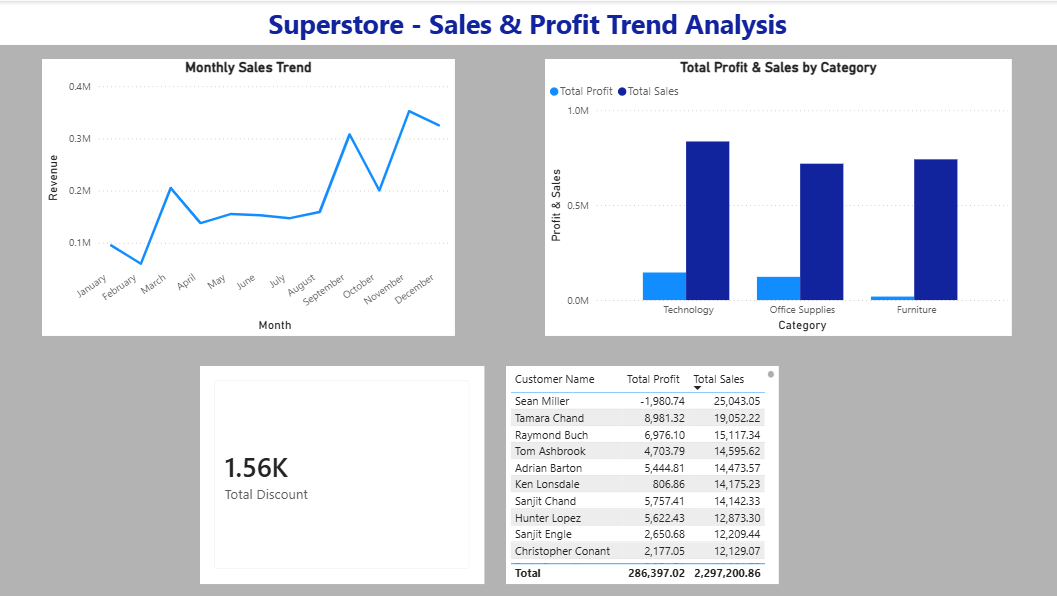

What the dashboard file says about the page in this screenshot:
{"tool":"powerbi","page":{"name":"Trend Analysis","canvas":[1280,720],"ordinal":2},"visuals":[{"type":"textbox","box":[0,0,1279.6,53.1],"z":0},{"type":"lineChart","title":"Monthly Sales Trend","fields":{"Y":["Sample - Superstore.Total Sales"],"Category":["Sample - Superstore.Order Date.Variation.Date Hierarchy.Month"]},"box":[54.3,69.9,498.1,334.1],"z":1},{"type":"clusteredColumnChart","title":"Total Profit & Sales by Category","fields":{"Category":["Sample - Superstore.Category"],"Y":["Sample - Superstore.Total Profit","Sample - Superstore.Total Sales"]},"box":[660.9,69.9,563.2,334.1],"z":2},{"type":"tableEx","fields":{"Values":["Sample - Superstore.Customer Name","Sample - Superstore.Total Profit","Sample - Superstore.Total Sales"]},"box":[613.9,440.2,329.2,262.9],"z":3},{"type":"cardVisual","fields":{"Data":["Sample - Superstore.Total Discount"]},"box":[244.8,440.2,342.5,262.9],"z":4}]}

Visuals, with their boxes in screenshot pixels (x1, y1, x2, y2), scaled from the page's 1280x720 canvas onto the 1057x596 screenshot:
textbox: 0:0:1056:44
"Monthly Sales Trend" lineChart: 45:58:456:334
"Total Profit & Sales by Category" clusteredColumnChart: 546:58:1011:334
tableEx - Sample - Superstore.Customer Name x Sample - Superstore.Total Profit: 507:364:779:582
cardVisual - Sample - Superstore.Total Discount: 202:364:485:582
